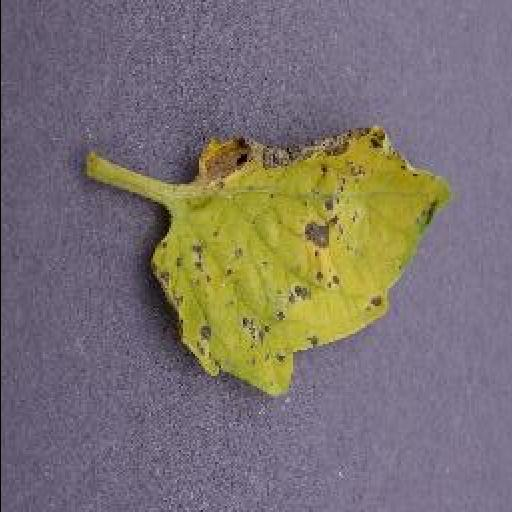disease_tomato: (148, 124, 458, 402)
